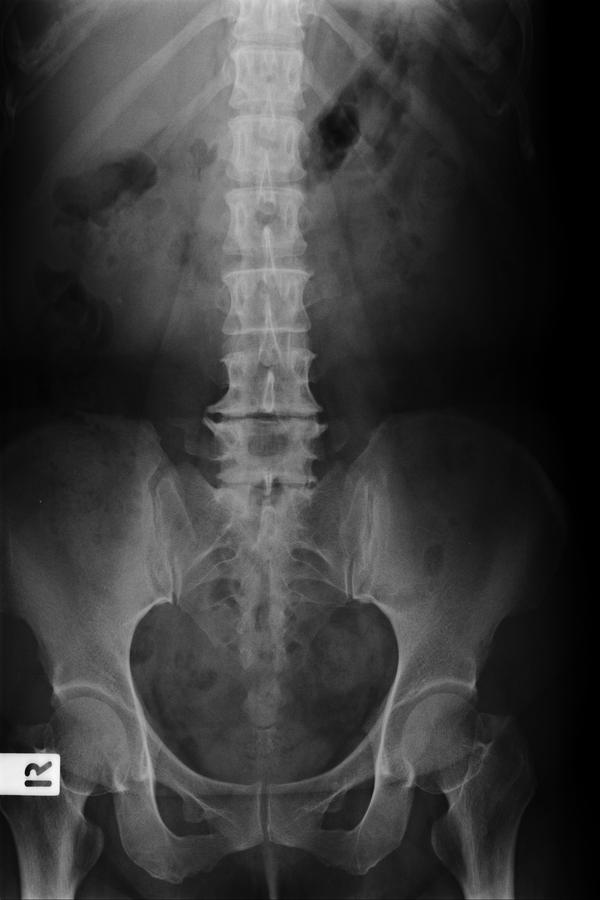lumbar scoliosis: (202, 8, 329, 528)
